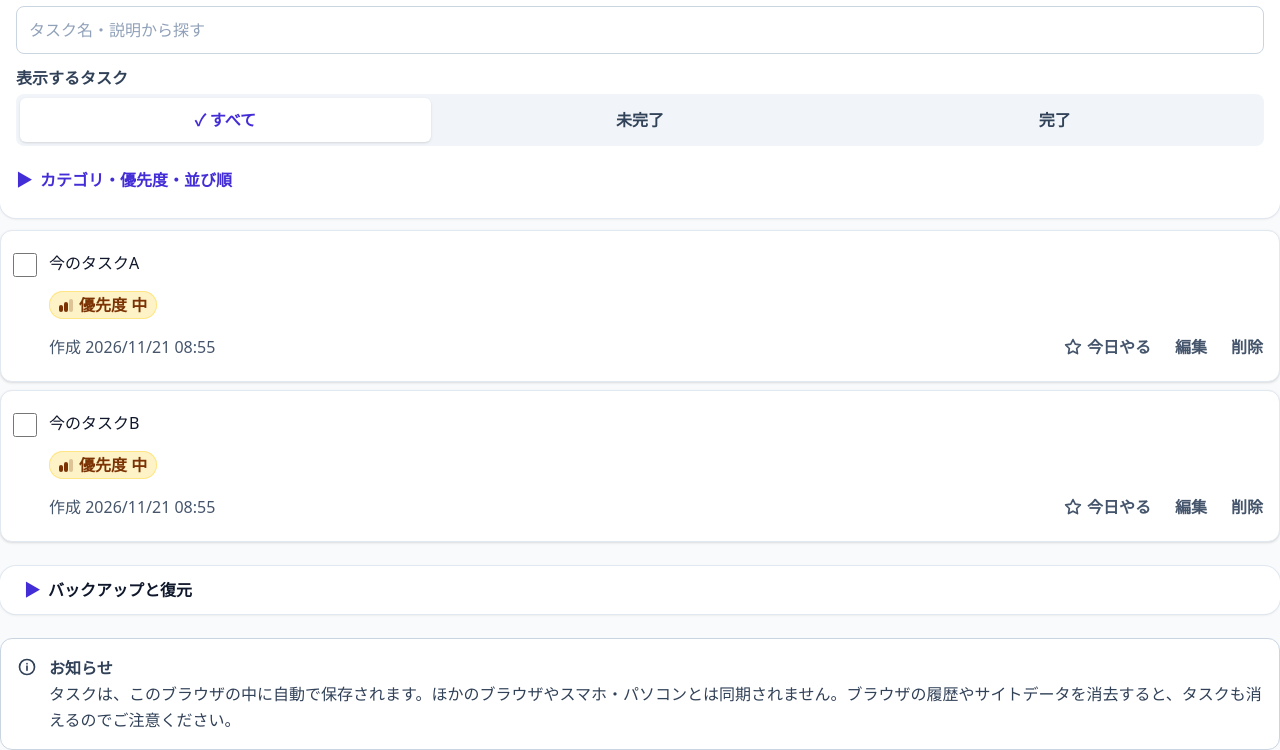
Test: バックアップ（書き出し） › 今のタスクを JSON ファイルとして書き出す
(page scrolled)
Click the heading "▶ バックアップと復元".
click(108, 590)  # box [24,579,192,601]
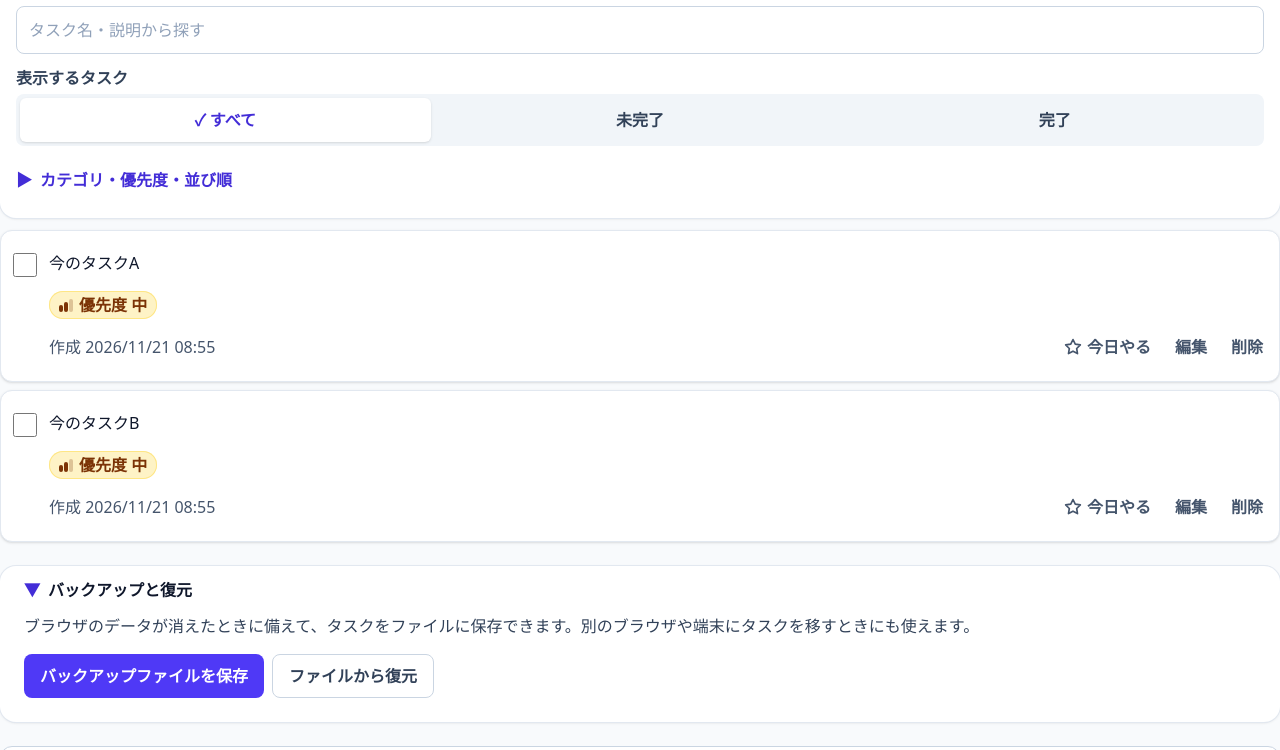
Click the button "バックアップファイルを保存".
click(144, 676)  # box [24,654,264,698]
(page scrolled)
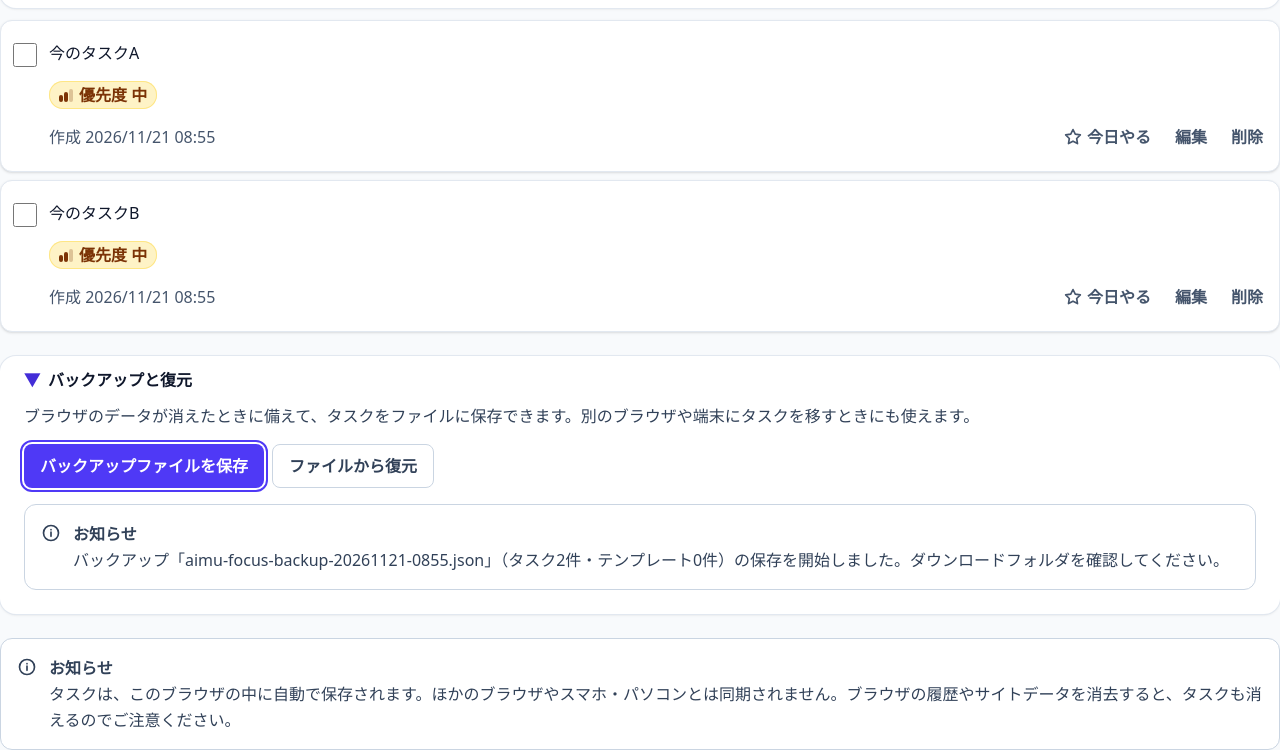
Check: the text "保存を開始しました" is shown, box [73,549,1229,571]
